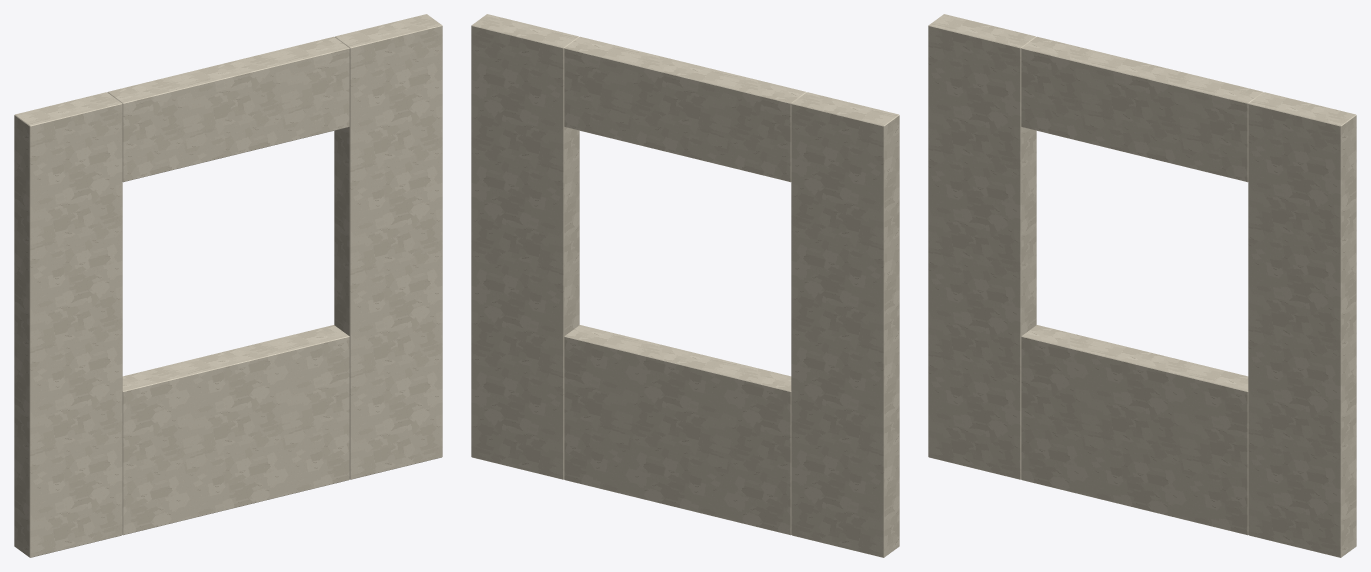
Rendered from MD_3_WindowWall.fbx.
The picture shows the model from 3 angles, left to right: view 1: azimuth 30°, elevation 25°; view 2: azimuth 150°, elevation 25°; view 3: azimuth 330°, elevation 25°; orthographic projection.
Parts seen in each view (by area): view 1: MD_3_WindowWall_window_side_wall, MD_3_WindowWall_window_side_wall.001, MD_3_WindowWall_window_sill_wall, MD_3_WindowWall_window_header; view 2: MD_3_WindowWall_window_side_wall, MD_3_WindowWall_window_side_wall.001, MD_3_WindowWall_window_sill_wall, MD_3_WindowWall_window_header; view 3: MD_3_WindowWall_window_side_wall.001, MD_3_WindowWall_window_side_wall, MD_3_WindowWall_window_sill_wall, MD_3_WindowWall_window_header.
Part boxes in pixels (<box>): MD_3_WindowWall_window_side_wall: <box>14,92,122,557</box>; MD_3_WindowWall_window_side_wall.001: <box>334,14,442,479</box>; MD_3_WindowWall_window_sill_wall: <box>122,325,349,535</box>; MD_3_WindowWall_window_header: <box>107,36,349,182</box>; MD_3_WindowWall_window_side_wall: <box>791,92,899,557</box>; MD_3_WindowWall_window_side_wall.001: <box>471,14,579,479</box>; MD_3_WindowWall_window_sill_wall: <box>564,325,791,535</box>; MD_3_WindowWall_window_header: <box>564,36,806,182</box>; MD_3_WindowWall_window_side_wall.001: <box>1248,92,1356,557</box>; MD_3_WindowWall_window_side_wall: <box>928,14,1036,479</box>; MD_3_WindowWall_window_sill_wall: <box>1021,325,1248,535</box>; MD_3_WindowWall_window_header: <box>1021,36,1263,182</box>.
Bounding box in the file's own units: 3 × 3 × 0.2.
Materials: 1 (1 with a texture image).
